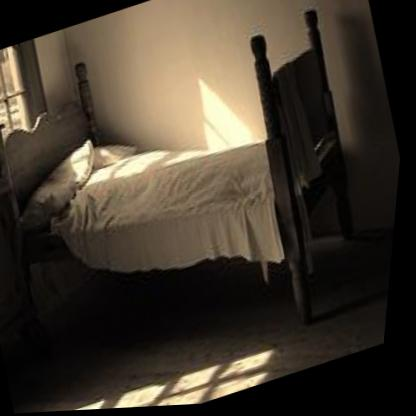Bed: (8, 12, 364, 330)
